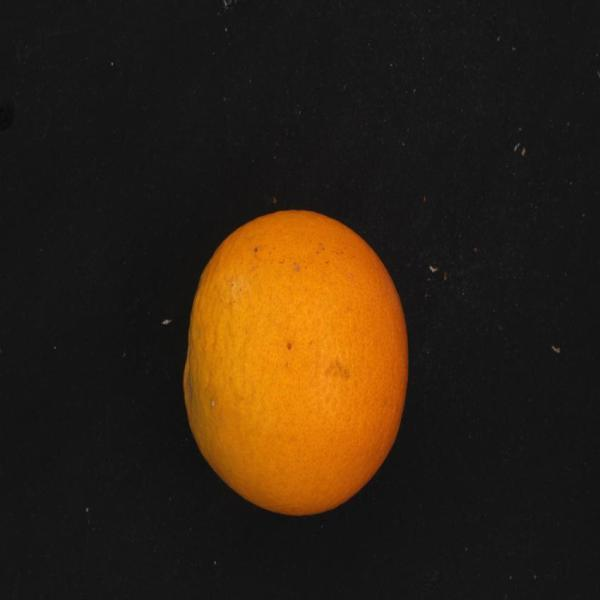Sana: (175, 204, 411, 524)
